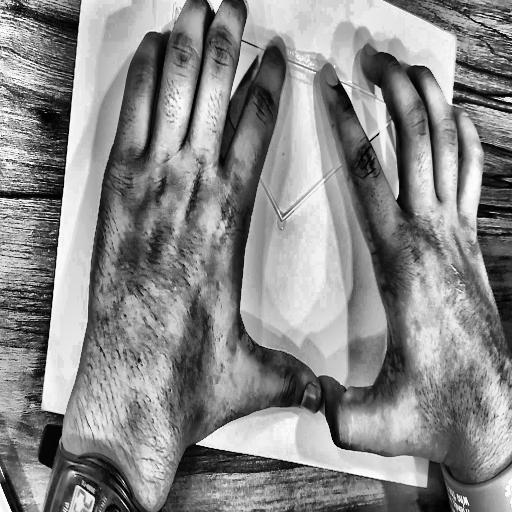bottom_left: (38, 401, 46, 415)
bottom_right: (423, 481, 430, 492)
envelop: (124, 0, 447, 451)
top_right: (453, 33, 460, 45)
